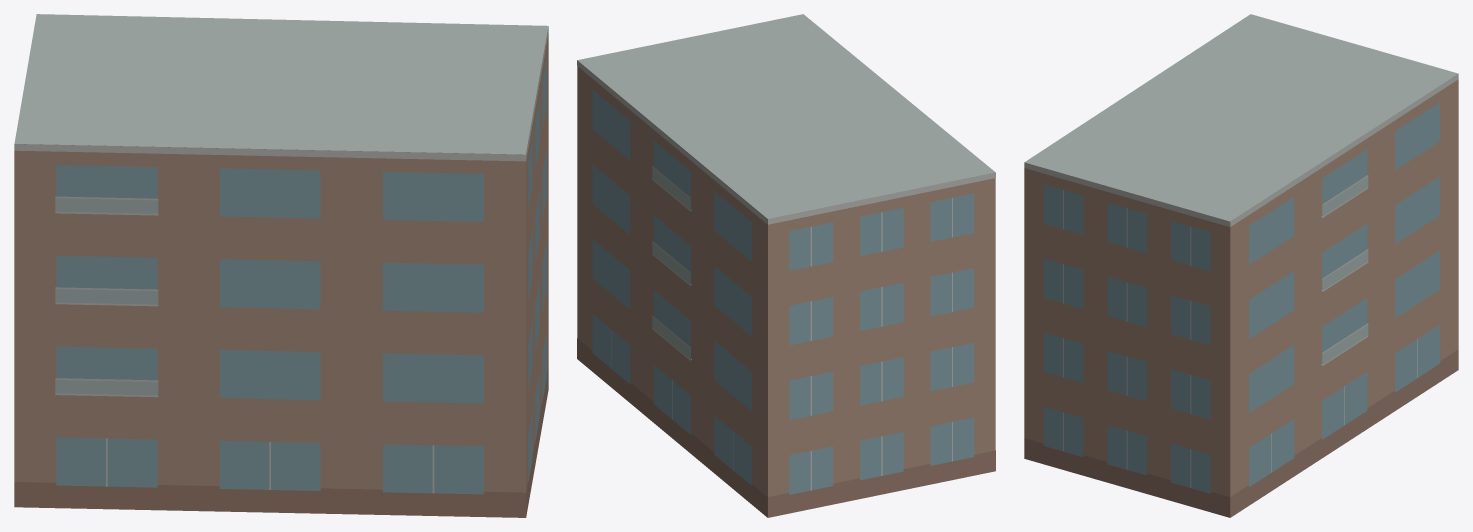
File: survey-upis-32747399.glb
3 renders of one model, left to right at view 1: azimuth 30°, elevation 25°; view 2: azimuth 150°, elevation 25°; view 3: azimuth 270°, elevation 25°, orthographic. The views are drawn at different scales.
Visible parts, largest first — view 1: survey-upis-32747399.tmp; view 2: survey-upis-32747399.tmp; view 3: survey-upis-32747399.tmp.
Part boxes in pixels (<box>): survey-upis-32747399.tmp: <box>14,14,548,517</box>; survey-upis-32747399.tmp: <box>577,14,995,517</box>; survey-upis-32747399.tmp: <box>1024,14,1458,517</box>.
Size of the model in its own units: 19.39 by 12.9 by 17.15.
